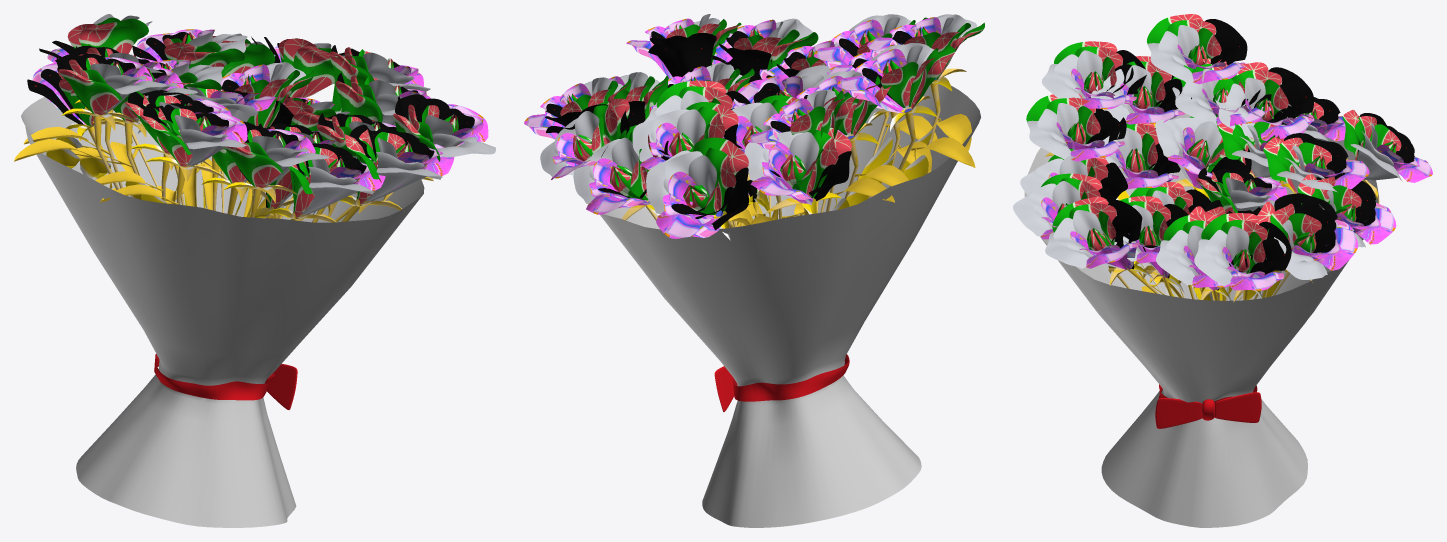
Rendered from rose_bouquet.fbx.
3 views of the same model, side by side, from view 1: azimuth 30°, elevation 25°; view 2: azimuth 150°, elevation 25°; view 3: azimuth 270°, elevation 25° (orthographic). The views are drawn at different scales.
Visible parts, largest first — view 1: rose_bouquet_Material.002, rose_bouquet_red-petal01, rose_bouquet_petal-red04, rose_bouquet_Material_9.003, rose_bouquet_Material, rose_bouquet_petal-red03, rose_bouquet_Material.001; view 2: rose_bouquet_Material.002, rose_bouquet_red-petal01, rose_bouquet_petal-red03, rose_bouquet_petal-red04, rose_bouquet_Material_9.003, rose_bouquet_Material, rose_bouquet_Material.001; view 3: rose_bouquet_Material.002, rose_bouquet_red-petal01, rose_bouquet_petal-red04, rose_bouquet_petal-red03, rose_bouquet_Material, rose_bouquet_Material.001, rose_bouquet_Material_9.003.
Part boxes in pixels (left/top/right/bottom): rose_bouquet_Material.002: left=21, top=97, right=424, bottom=527; rose_bouquet_red-petal01: left=58, top=17, right=458, bottom=217; rose_bouquet_petal-red04: left=90, top=14, right=495, bottom=217; rose_bouquet_Material_9.003: left=14, top=99, right=433, bottom=222; rose_bouquet_Material: left=27, top=32, right=474, bottom=207; rose_bouquet_petal-red03: left=32, top=29, right=488, bottom=202; rose_bouquet_Material.001: left=154, top=354, right=297, bottom=409; rose_bouquet_Material.002: left=600, top=84, right=980, bottom=527; rose_bouquet_red-petal01: left=560, top=17, right=984, bottom=214; rose_bouquet_petal-red03: left=524, top=17, right=941, bottom=238; rose_bouquet_petal-red04: left=540, top=14, right=977, bottom=215; rose_bouquet_Material_9.003: left=618, top=68, right=975, bottom=240; rose_bouquet_Material: left=545, top=31, right=912, bottom=229; rose_bouquet_Material.001: left=714, top=354, right=849, bottom=411; rose_bouquet_Material.002: left=1024, top=109, right=1378, bottom=527; rose_bouquet_red-petal01: left=1026, top=14, right=1401, bottom=274; rose_bouquet_petal-red04: left=1013, top=25, right=1402, bottom=288; rose_bouquet_petal-red03: left=1041, top=44, right=1432, bottom=290; rose_bouquet_Material: left=1079, top=19, right=1414, bottom=290; rose_bouquet_Material.001: left=1155, top=384, right=1261, bottom=428; rose_bouquet_Material_9.003: left=1045, top=116, right=1379, bottom=302.
Size of the model in its own units: 2731 by 2922 by 2644.
